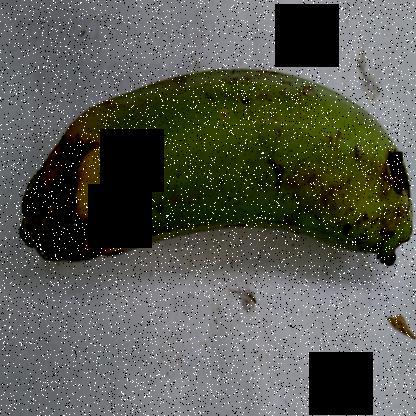rotten: (15, 110, 139, 278)
unripe: (115, 14, 415, 286)
